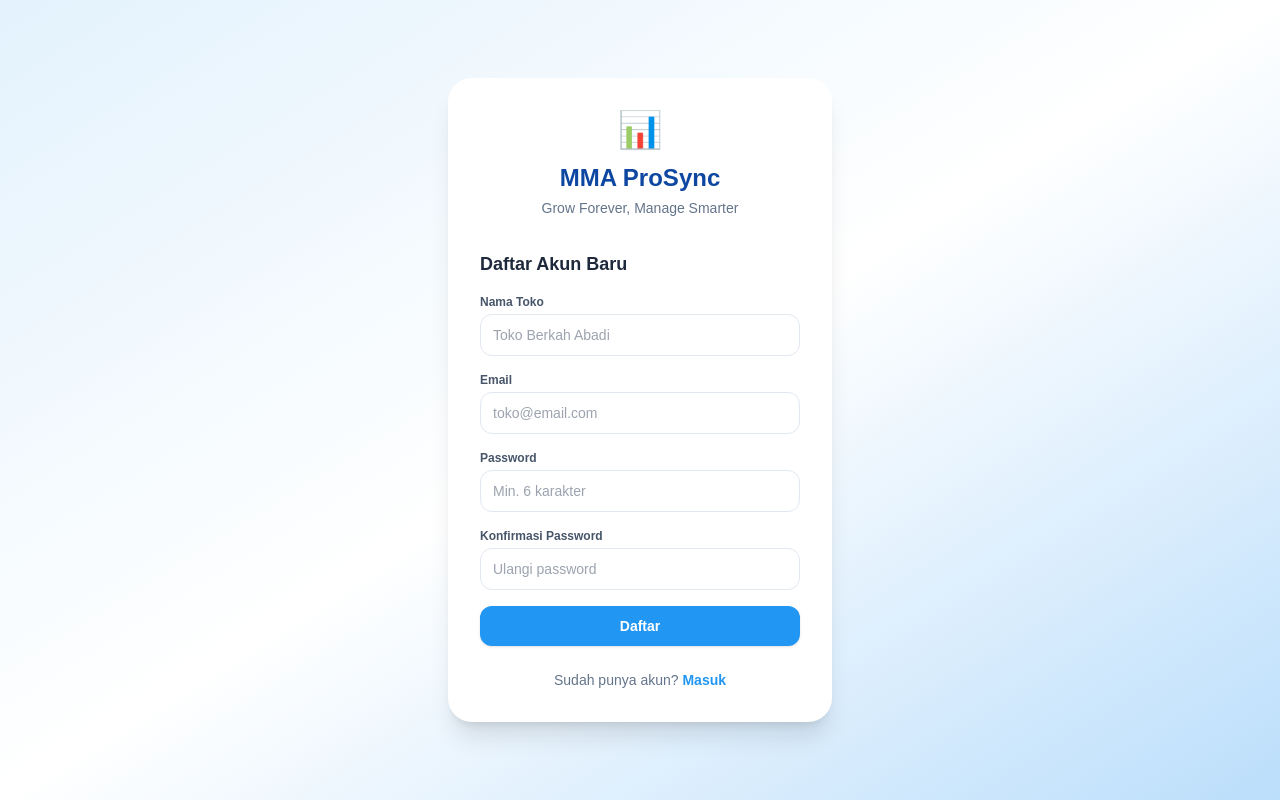
it: DaftarPage › shows error for empty fields
Click the button "Daftar" at (640, 626), box [480,606,800,646]
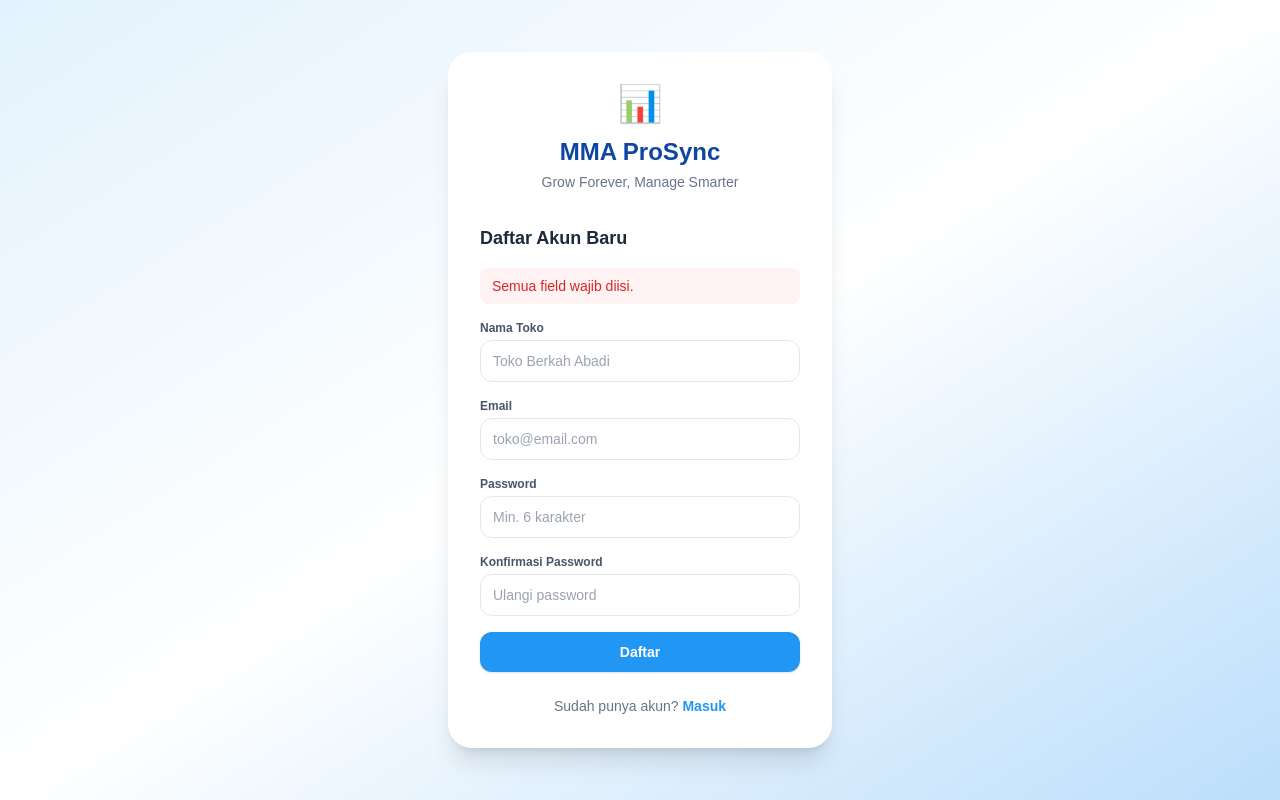
Now the message shows "Semua field wajib diisi", box [492,278,634,294]
